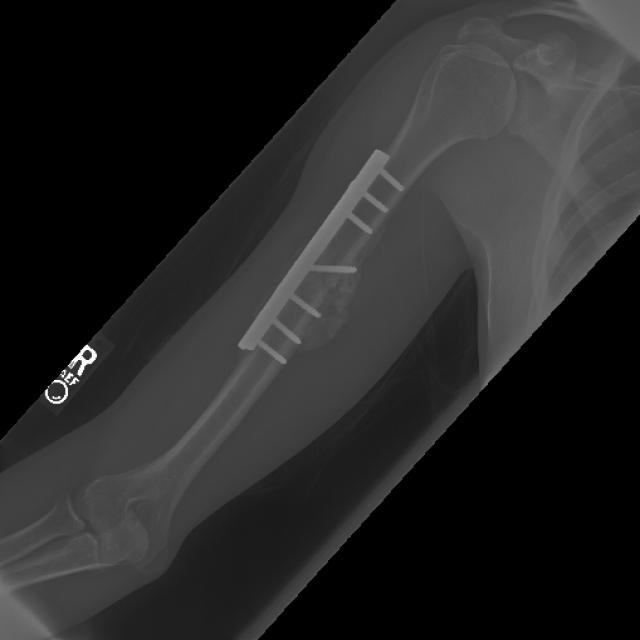humerus fracture: (306, 269, 346, 311)
